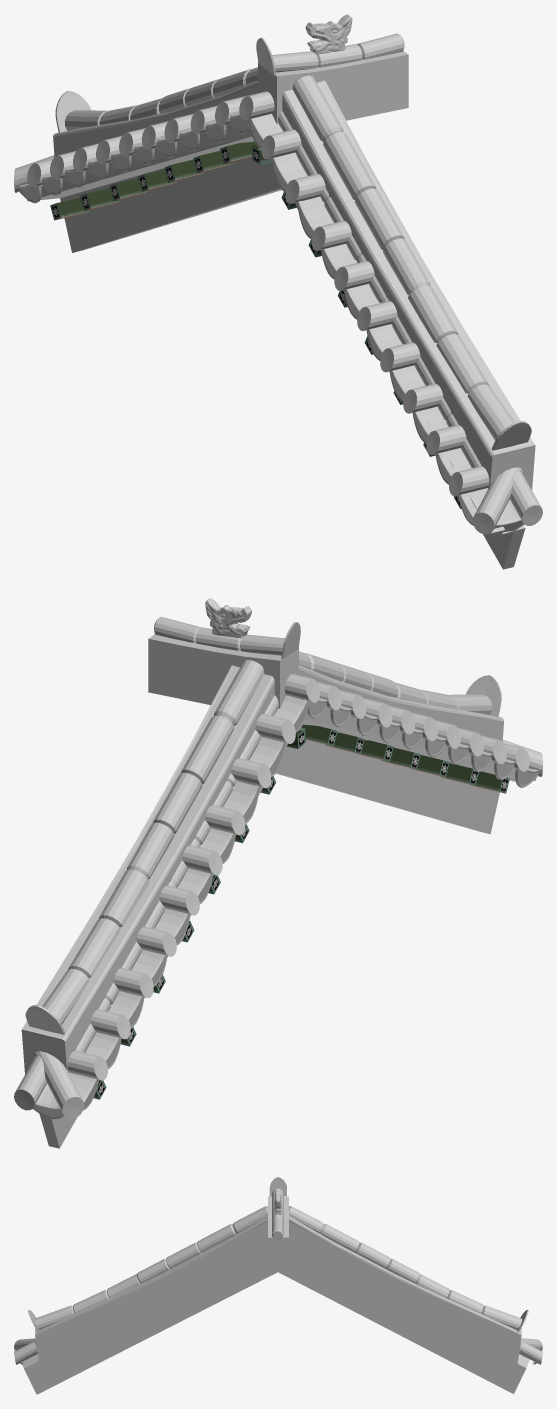
The model's file is SM_R_RoofOuter_18.fbx.
3 views of the same model, one above another, from view 1: azimuth 30°, elevation 25°; view 2: azimuth 150°, elevation 25°; view 3: azimuth 270°, elevation 25° (orthographic). The views are drawn at different scales.
Parts seen in each view (by area): view 1: SM_R_RoofOuter_18_LOD0; view 2: SM_R_RoofOuter_18_LOD0; view 3: SM_R_RoofOuter_18_LOD0.
Part boxes in pixels (bbox=[...]): SM_R_RoofOuter_18_LOD0: bbox=[14, 14, 542, 569]; SM_R_RoofOuter_18_LOD0: bbox=[14, 598, 542, 1148]; SM_R_RoofOuter_18_LOD0: bbox=[14, 1177, 542, 1394].
Size of the model in its own units: 158 by 824 by 362.
